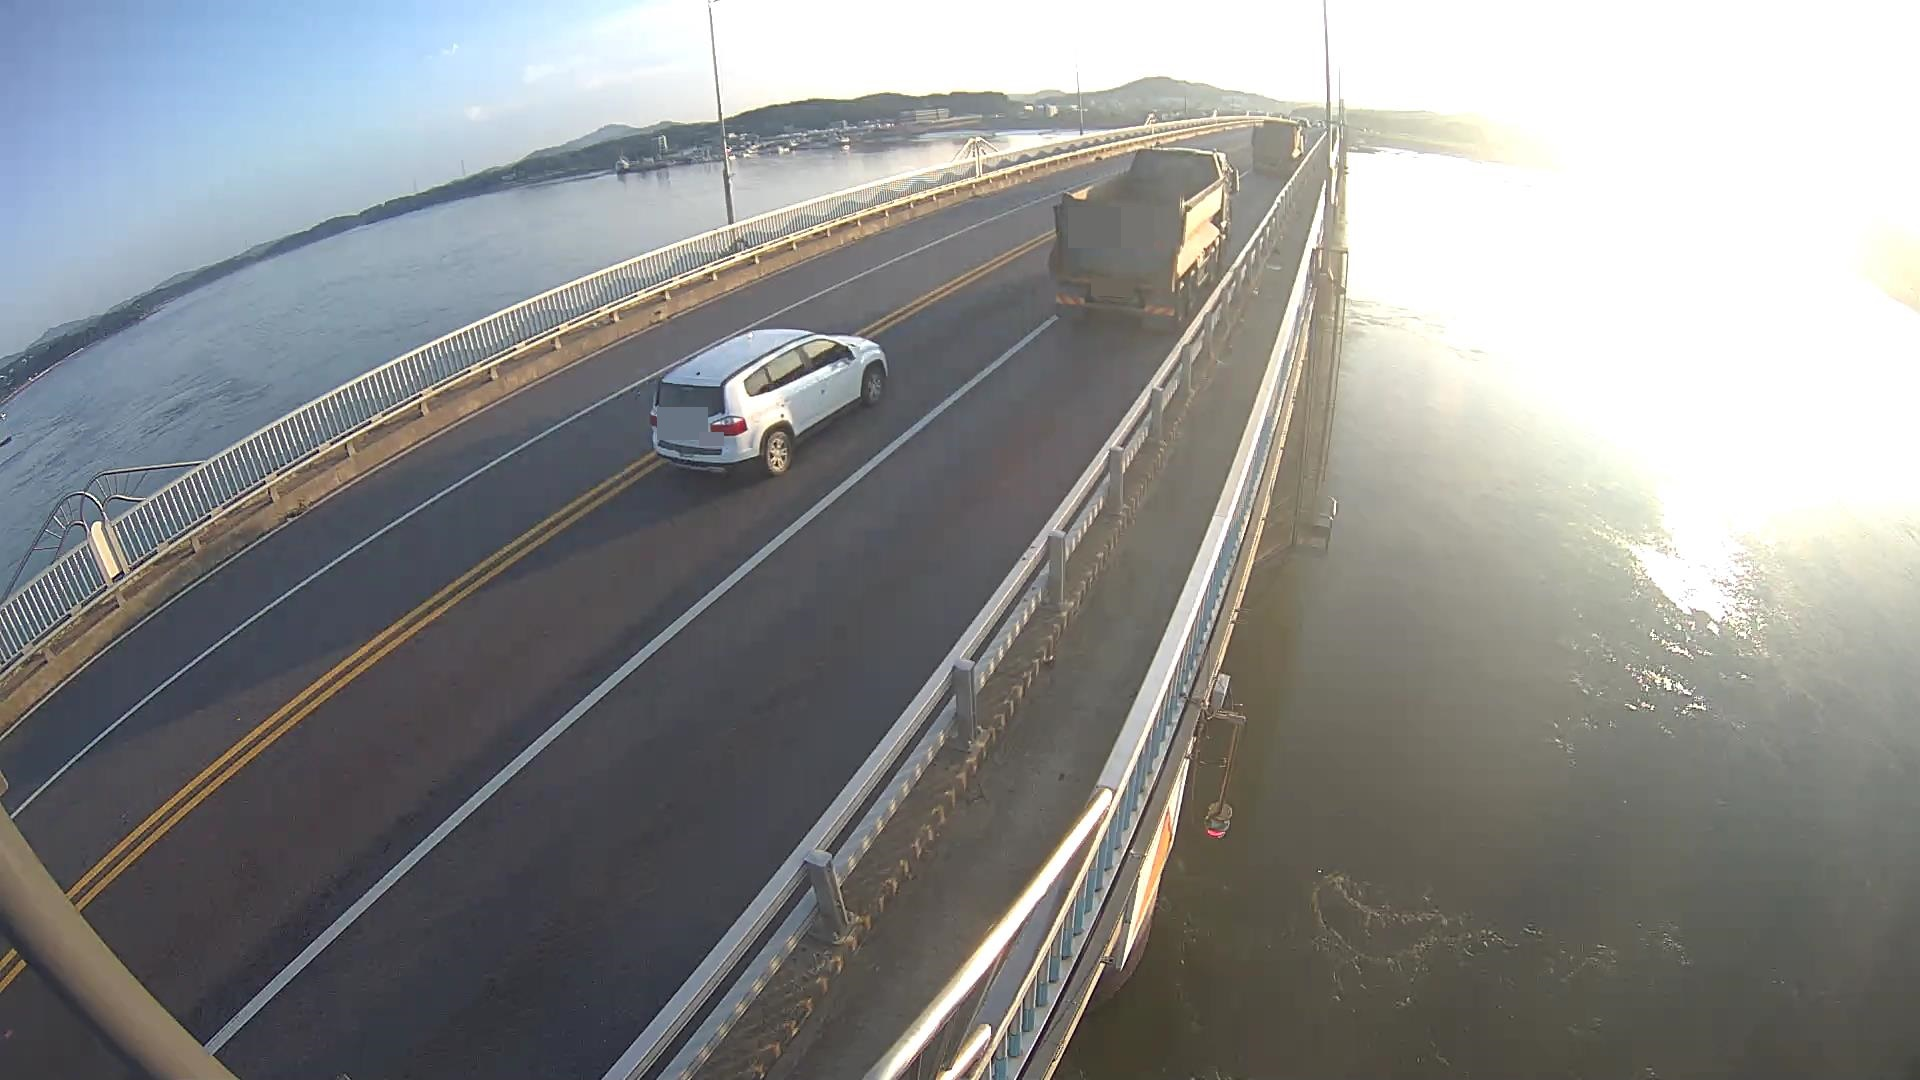정상차량: (1050, 141, 1240, 330)
